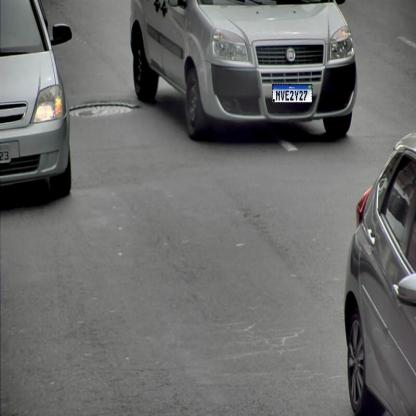PlacaM: (272, 84, 312, 103)
